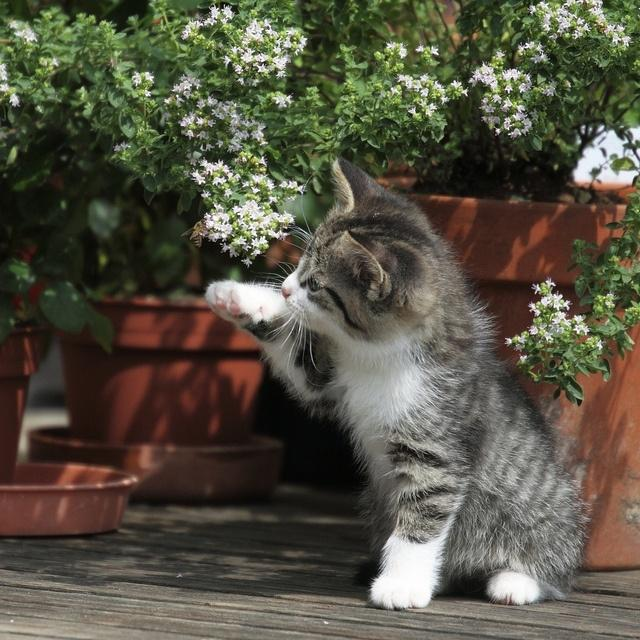cat: (205, 158, 586, 608)
